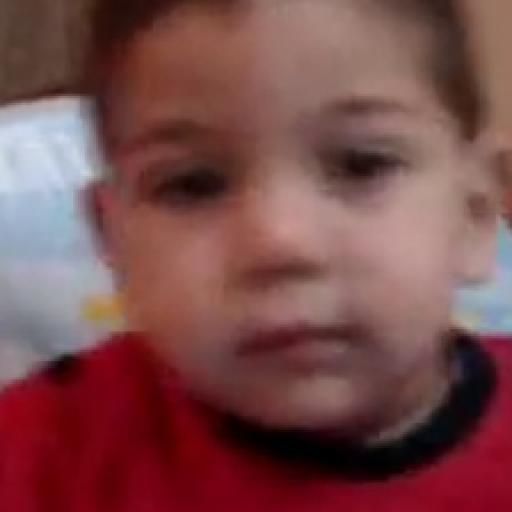Autism: (90, 22, 512, 512)
